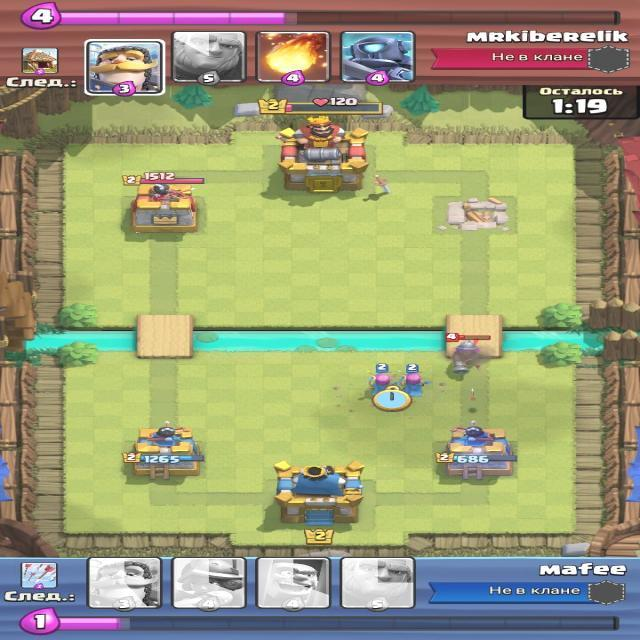EKingTower: (277, 116, 368, 191)
EMusk: (445, 332, 491, 376)
EnemyPrincessTower: (131, 179, 202, 232)
OArcher: (401, 365, 431, 397), (368, 363, 392, 395)
OwnKingTower: (274, 462, 363, 525)
OwnPrincessTower: (125, 424, 203, 478), (436, 425, 515, 478)
TowerDown: (436, 198, 514, 230)
